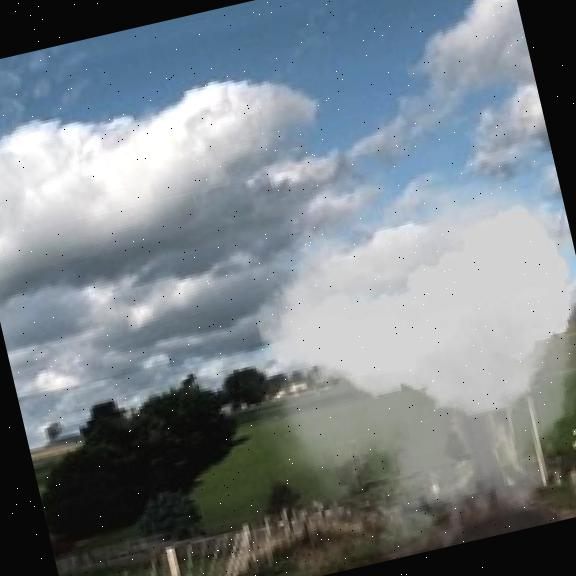smoke: (207, 128, 576, 576)
